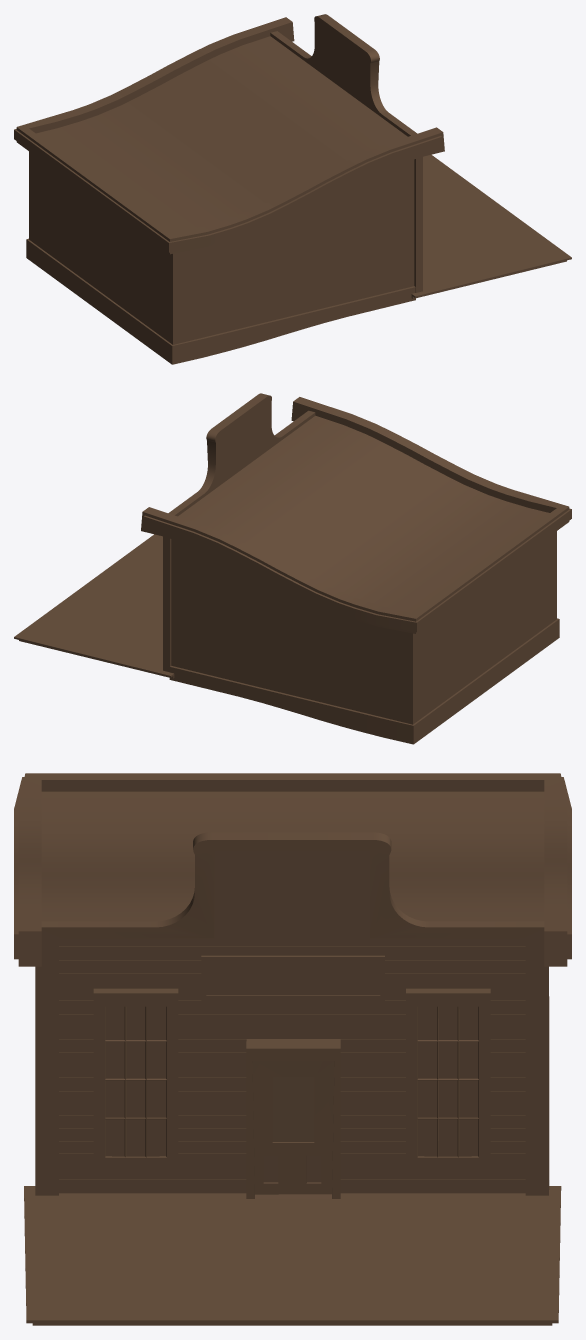
The model's file is sheriff_building.fbx.
3 views of the same model, one above another, from view 1: azimuth 30°, elevation 25°; view 2: azimuth 150°, elevation 25°; view 3: azimuth 270°, elevation 25° (orthographic). The views are drawn at different scales.
Visible parts, largest first — view 1: sheriff_build; view 2: sheriff_build; view 3: sheriff_build.
Part boxes in pixels (x1,y1,x2,y2): sheriff_build: [14, 14, 571, 364]; sheriff_build: [14, 393, 571, 744]; sheriff_build: [14, 773, 571, 1325].
Bounding box in the file's own units: 18.36 × 9.45 × 12.57.
